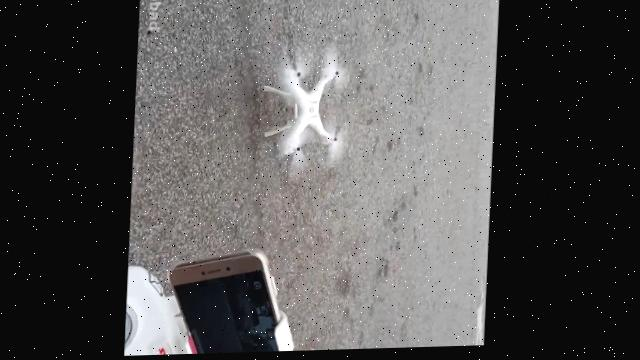drone: (258, 44, 353, 186)
